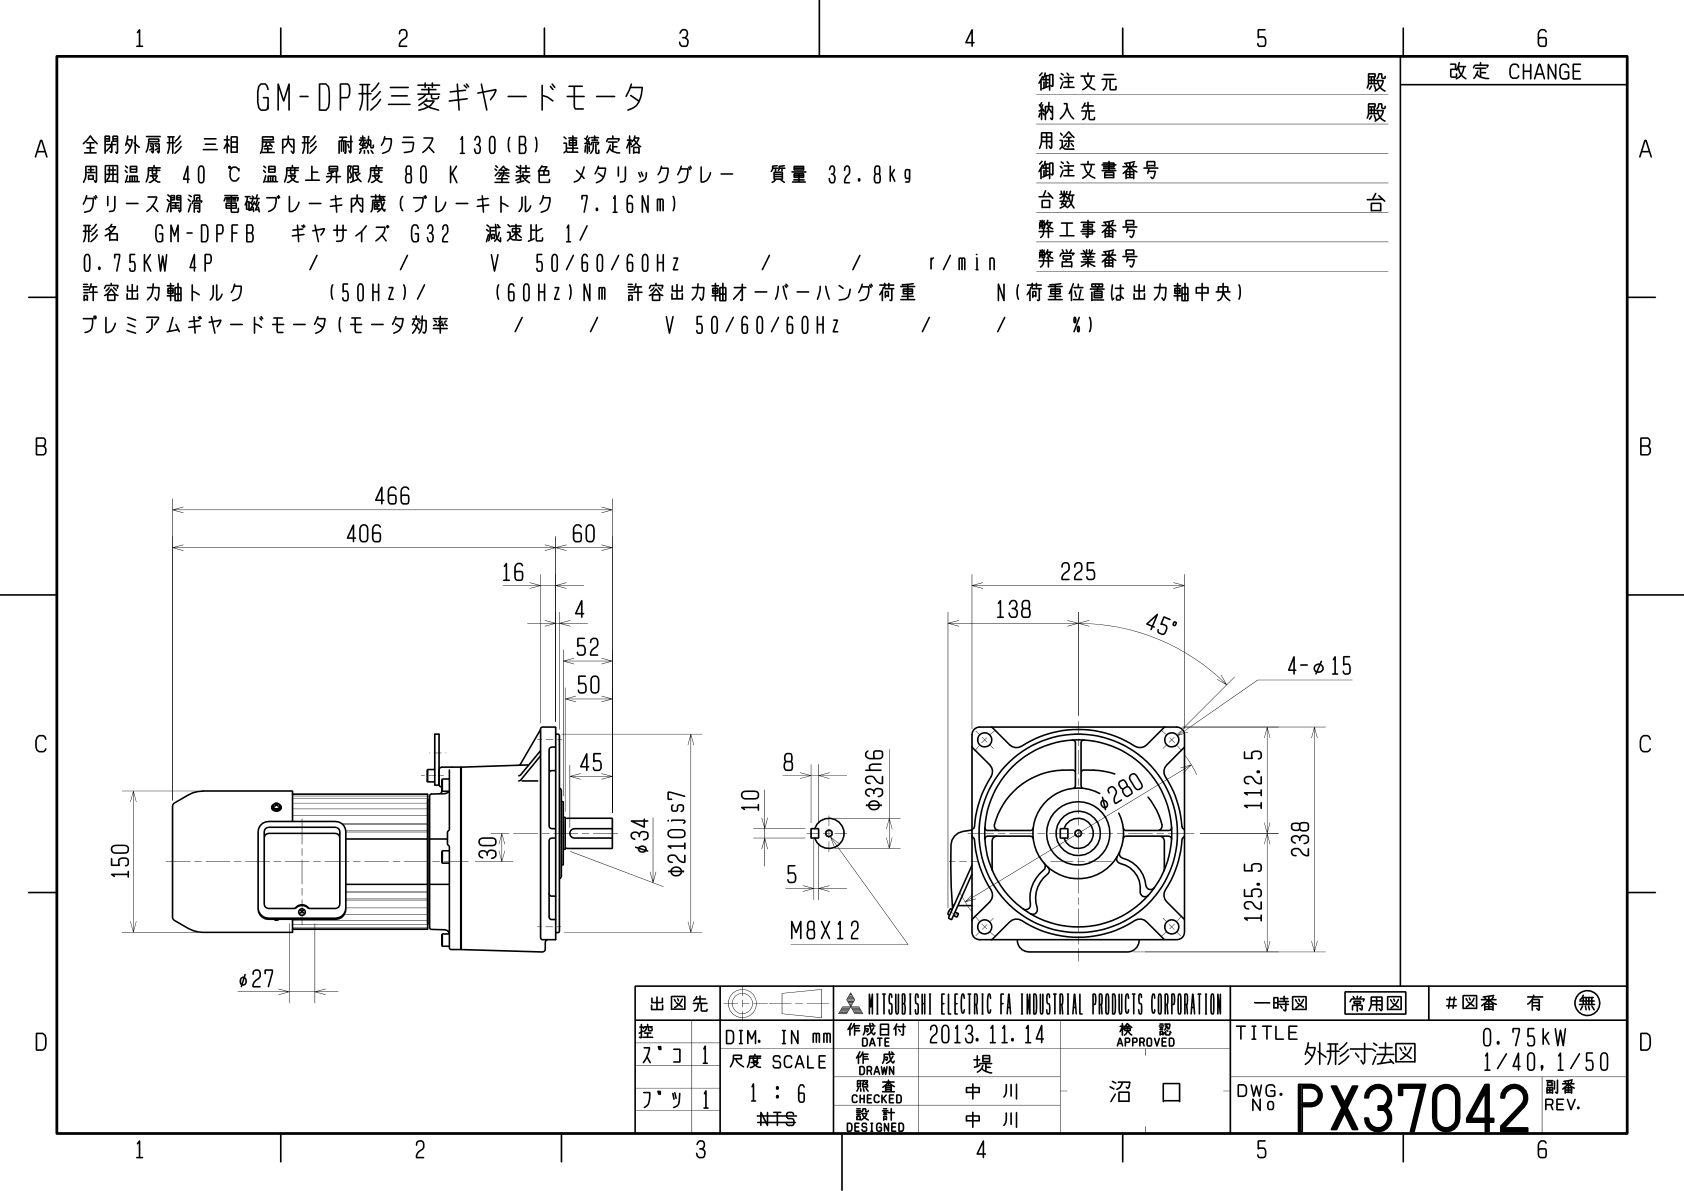GM_DP_屋内_三相_フランジ: (70, 449, 1385, 989)
